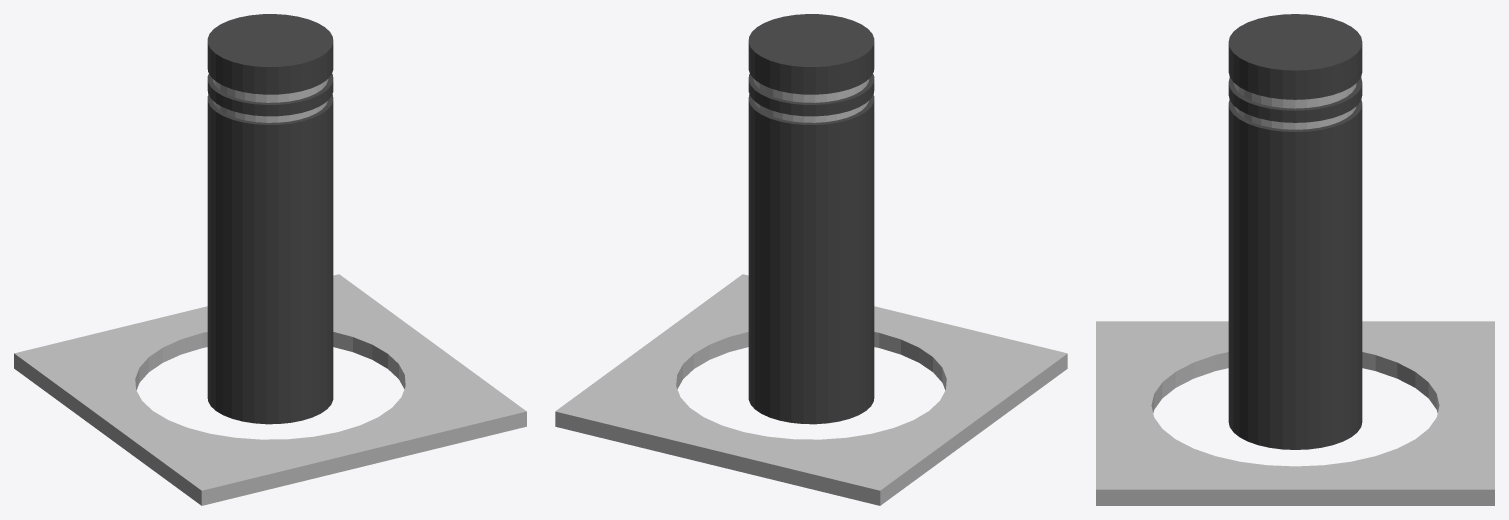
Rendered from poteau.obj.
3 renders of one model, left to right at view 1: azimuth 30°, elevation 25°; view 2: azimuth 150°, elevation 25°; view 3: azimuth 270°, elevation 25°, orthographic. The views are drawn at different scales.
Parts seen in each view (by area): view 1: moving, base; view 2: moving, base; view 3: moving, base.
Part boxes in pixels (left/top/right/bottom): moving: left=207, top=14, right=333, bottom=424; base: left=14, top=274, right=526, bottom=505; moving: left=748, top=14, right=874, bottom=424; base: left=555, top=274, right=1067, bottom=505; moving: left=1228, top=14, right=1362, bottom=449; base: left=1096, top=321, right=1494, bottom=505.
Bounding box in the file's own units: 0.9803 × 1.03 × 0.9803.
Materials: 2 (2 with a texture image).
